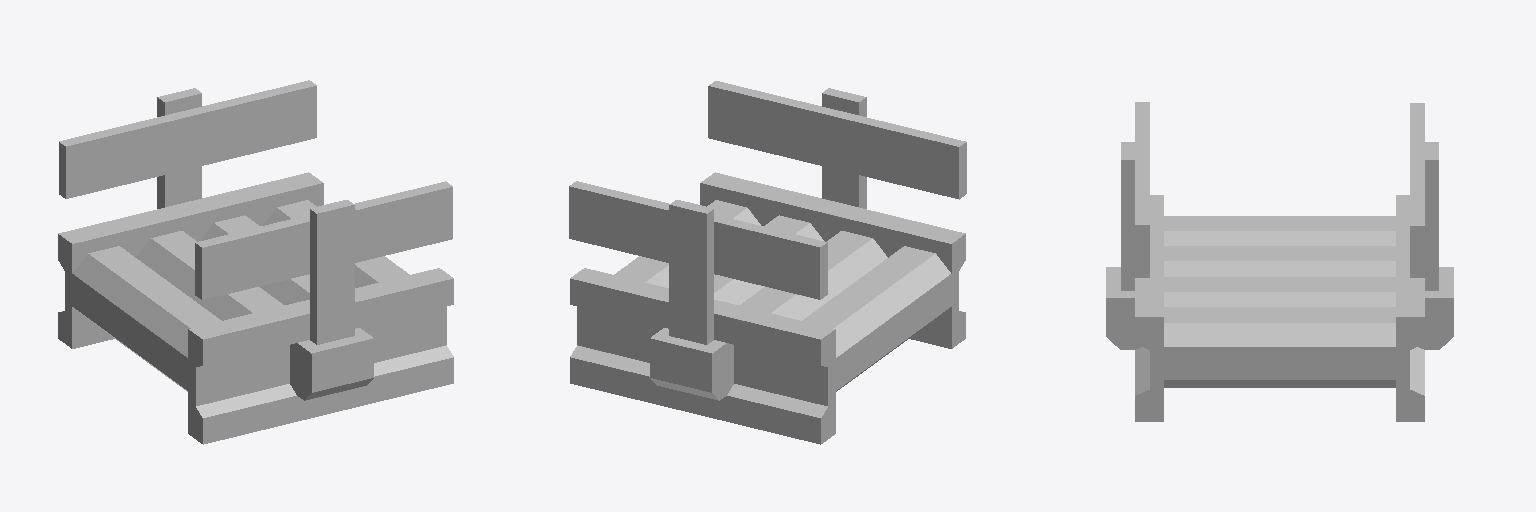
The model's file is conveyor-bars-stripe-fence.obj.
3 views of the same model, side by side, from view 1: azimuth 30°, elevation 25°; view 2: azimuth 150°, elevation 25°; view 3: azimuth 270°, elevation 25° (orthographic).
Visible parts, largest first — view 1: Group; view 2: Group; view 3: Group.
Boxes of the visible parts, x1=… form: Group: x1=58, y1=80, x2=453, y2=444; Group: x1=569, y1=81, x2=966, y2=444; Group: x1=1106, y1=102, x2=1453, y2=421.
Bounding box in the file's own units: 1.01 × 0.8 × 1.2.